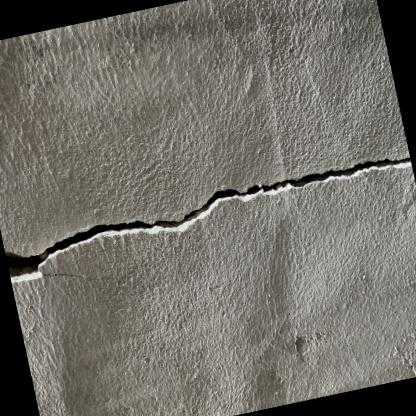crack: (5, 156, 411, 275)
